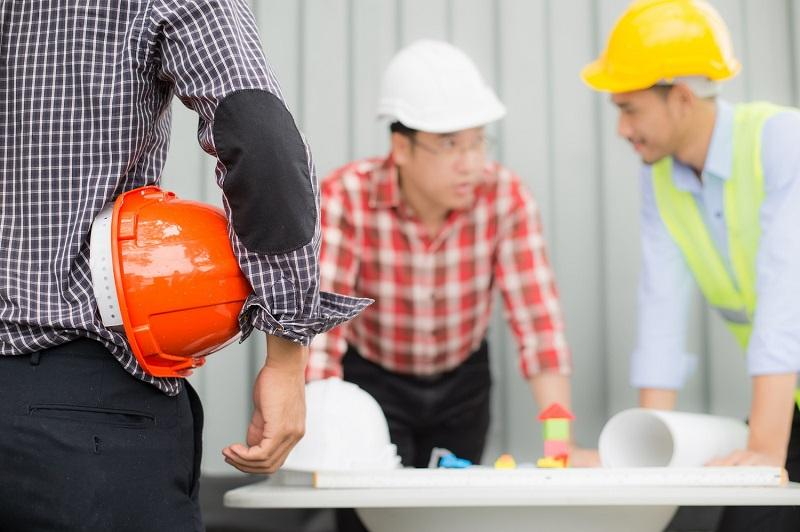helmet: (89, 170, 258, 383), (583, 1, 736, 91), (374, 40, 510, 133)
